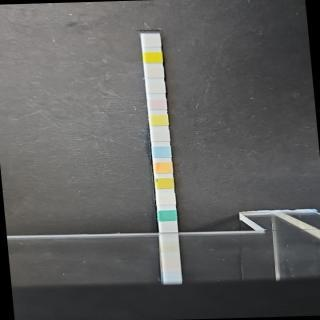mark: (155, 177, 175, 190), (141, 36, 162, 48), (150, 113, 169, 126), (146, 82, 166, 94), (147, 98, 167, 110), (156, 193, 176, 205), (145, 67, 164, 79), (152, 146, 171, 158), (154, 162, 173, 174), (144, 52, 162, 64), (158, 210, 176, 222), (151, 130, 170, 141)
